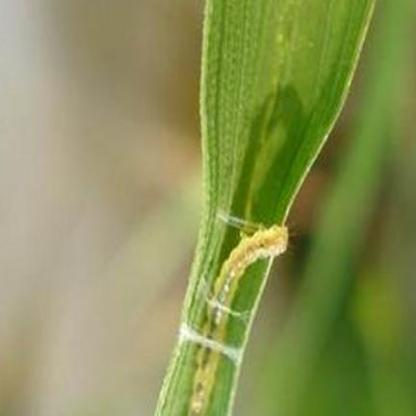leaf-folder: (189, 207, 280, 416)
